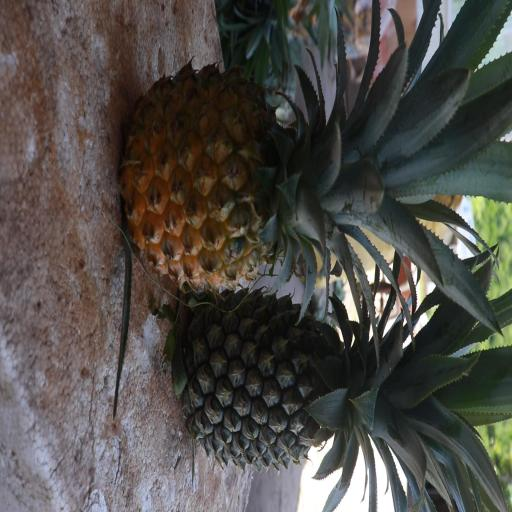Pineapple - v8 v1: (131, 70, 466, 284)
